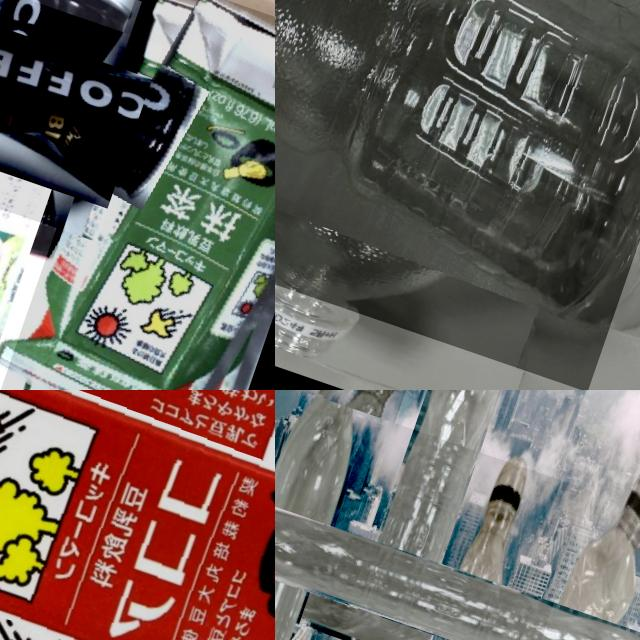Aluminium Foil: (0, 0, 275, 390), (0, 390, 275, 640)
Can: (0, 0, 163, 241)
Transparent Plastic Bottle: (275, 0, 640, 390), (275, 391, 591, 640), (354, 441, 579, 640), (445, 442, 640, 640), (275, 390, 429, 640), (275, 390, 380, 640)
